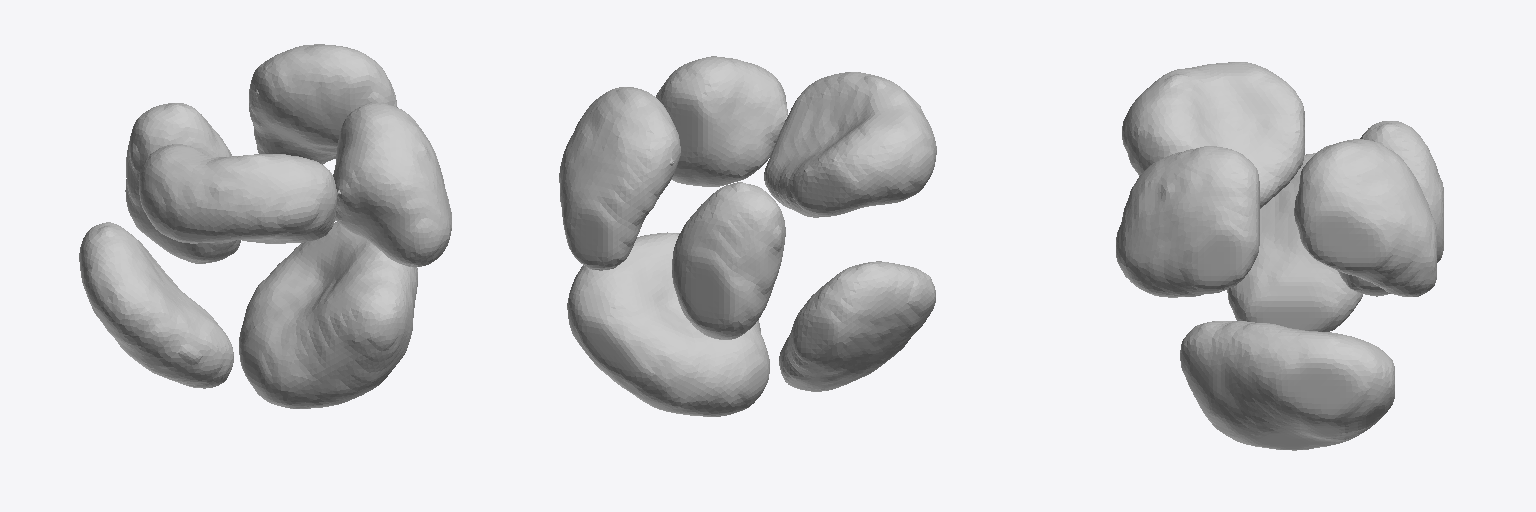
Rendered from centered-6.obj.
3 views of the same model, side by side, from view 1: azimuth 30°, elevation 25°; view 2: azimuth 150°, elevation 25°; view 3: azimuth 270°, elevation 25° (orthographic).
Parts seen in each view (by area): view 1: 6_iso-crop-mosaic_6.005, 1_iso-crop-mosaic_6, 2_iso-crop-mosaic_6.001, 4_iso-crop-mosaic_6.003, 3_iso-crop-mosaic_6.002, 5_iso-crop-mosaic_6.004; view 2: 6_iso-crop-mosaic_6.005, 1_iso-crop-mosaic_6, 3_iso-crop-mosaic_6.002, 4_iso-crop-mosaic_6.003, 5_iso-crop-mosaic_6.004, 2_iso-crop-mosaic_6.001; view 3: 6_iso-crop-mosaic_6.005, 2_iso-crop-mosaic_6.001, 3_iso-crop-mosaic_6.002, 1_iso-crop-mosaic_6, 4_iso-crop-mosaic_6.003, 5_iso-crop-mosaic_6.004.
Boxes of the visible parts, x1=… form: 6_iso-crop-mosaic_6.005: x1=239, y1=222, x2=417, y2=408; 1_iso-crop-mosaic_6: x1=138, y1=144, x2=336, y2=243; 2_iso-crop-mosaic_6.001: x1=333, y1=103, x2=451, y2=267; 4_iso-crop-mosaic_6.003: x1=79, y1=222, x2=233, y2=388; 3_iso-crop-mosaic_6.002: x1=249, y1=44, x2=397, y2=164; 5_iso-crop-mosaic_6.004: x1=125, y1=103, x2=240, y2=263; 6_iso-crop-mosaic_6.005: x1=567, y1=232, x2=769, y2=416; 1_iso-crop-mosaic_6: x1=764, y1=72, x2=936, y2=217; 3_iso-crop-mosaic_6.002: x1=559, y1=87, x2=680, y2=270; 4_iso-crop-mosaic_6.003: x1=779, y1=261, x2=935, y2=391; 5_iso-crop-mosaic_6.004: x1=672, y1=182, x2=785, y2=339; 2_iso-crop-mosaic_6.001: x1=656, y1=56, x2=787, y2=186; 6_iso-crop-mosaic_6.005: x1=1180, y1=321, x2=1394, y2=450; 2_iso-crop-mosaic_6.001: x1=1116, y1=146, x2=1259, y2=297; 3_iso-crop-mosaic_6.002: x1=1294, y1=139, x2=1436, y2=296; 1_iso-crop-mosaic_6: x1=1122, y1=62, x2=1304, y2=208; 4_iso-crop-mosaic_6.003: x1=1227, y1=153, x2=1362, y2=331; 5_iso-crop-mosaic_6.004: x1=1338, y1=121, x2=1443, y2=296.
Size of the model in its own units: 5.73 by 5.47 by 5.06.